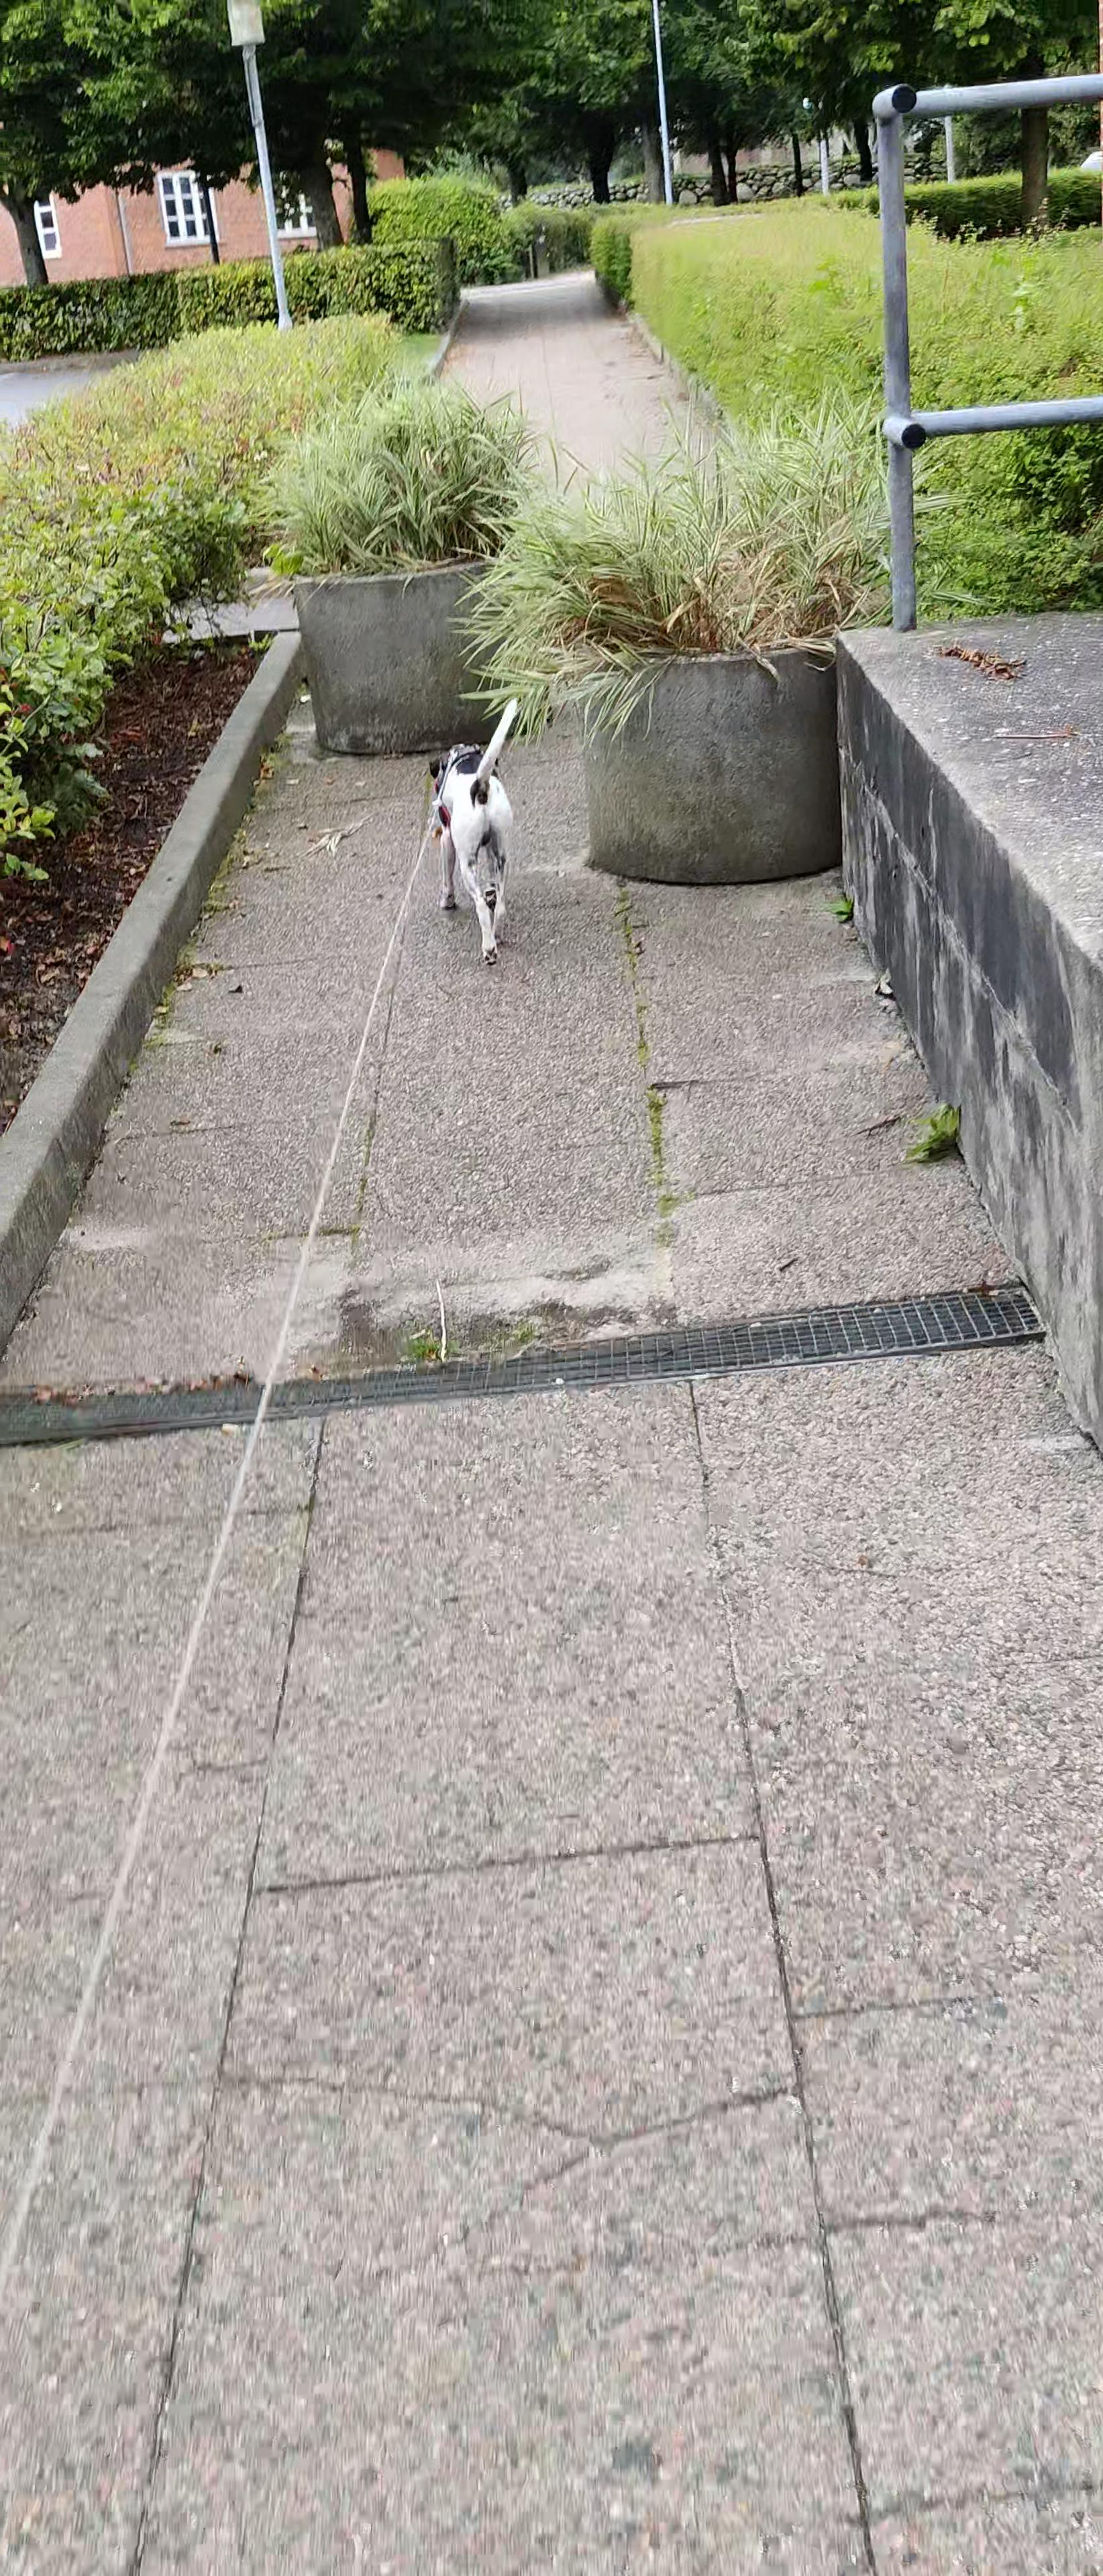Dog: (421, 688, 533, 966)
